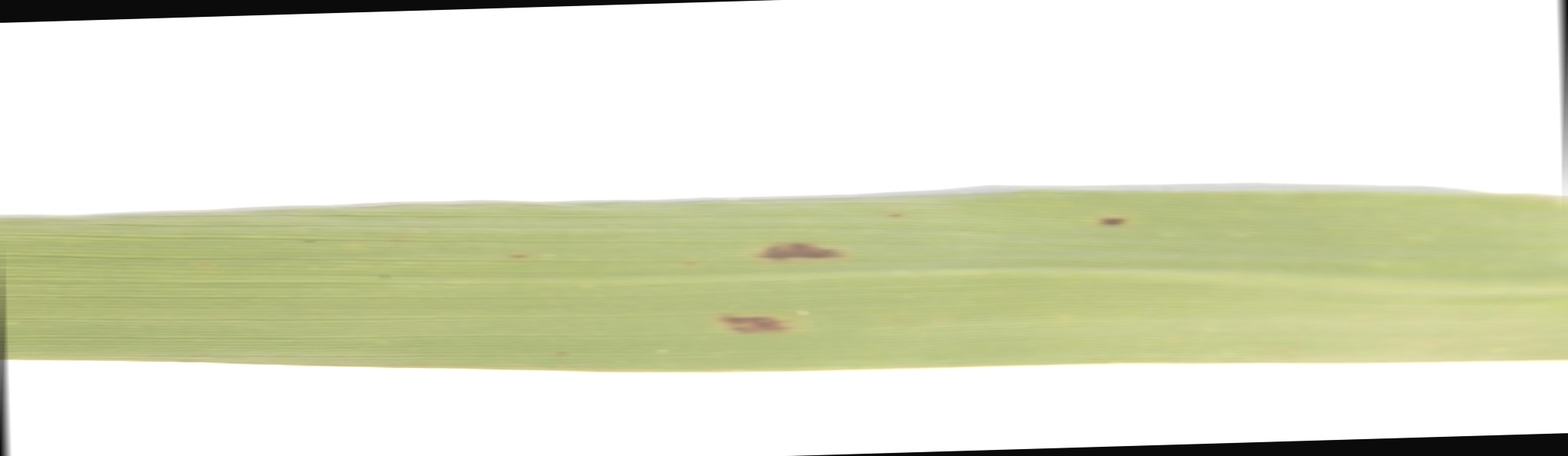Bacterial_Leaf_Blight: (707, 219, 859, 286), (673, 305, 798, 344), (1064, 206, 1151, 243)
